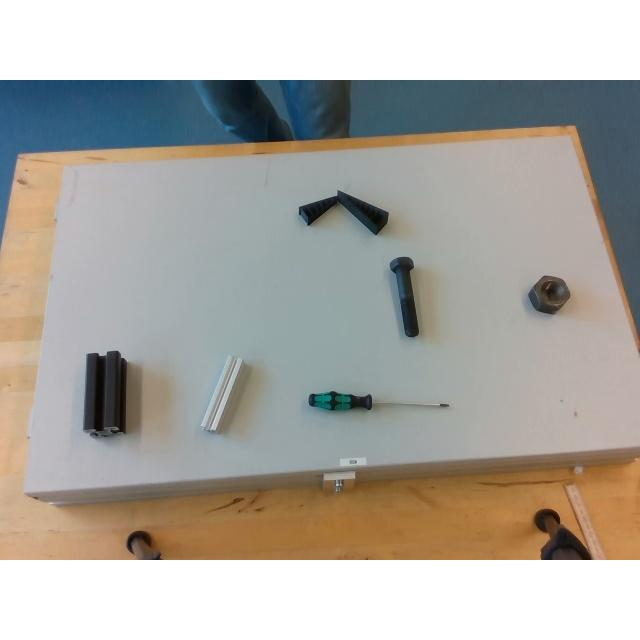F20_20_G: (200, 355, 242, 431)
M20_100: (389, 256, 418, 336)
M30: (528, 276, 570, 312)
S40_40_B: (83, 351, 125, 435)
Screwdriver: (309, 390, 449, 410)
